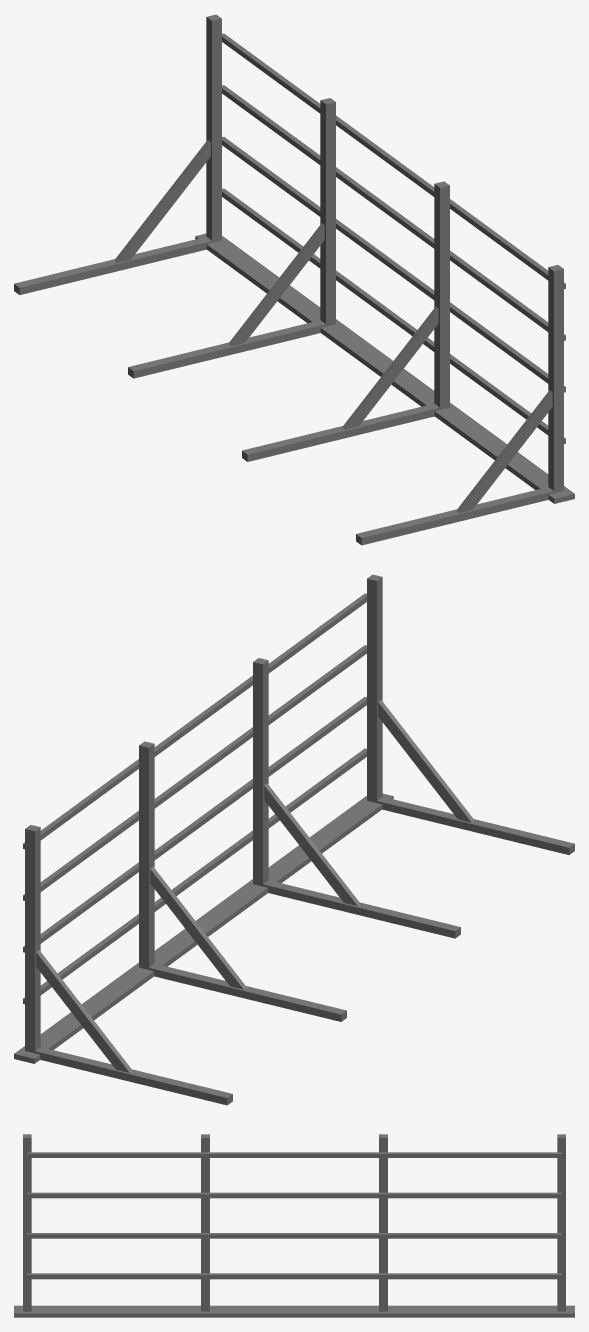
The model's file is SM_blibbloardStand_01.gltf.
3 renders of one model, top to bottom at view 1: azimuth 30°, elevation 25°; view 2: azimuth 150°, elevation 25°; view 3: azimuth 270°, elevation 25°, orthographic. The views are drawn at different scales.
Parts seen in each view (by area): view 1: SM_blibbloardStand_01; view 2: SM_blibbloardStand_01; view 3: SM_blibbloardStand_01.
Boxes of the visible parts, left/top/right/bottom form: SM_blibbloardStand_01: left=14, top=14, right=574, bottom=545; SM_blibbloardStand_01: left=14, top=574, right=574, bottom=1105; SM_blibbloardStand_01: left=14, top=1134, right=574, bottom=1317.
Bounding box in the file's own units: 2.1 × 2.2 × 6.3.
Materials: 1 (1 with a texture image).
